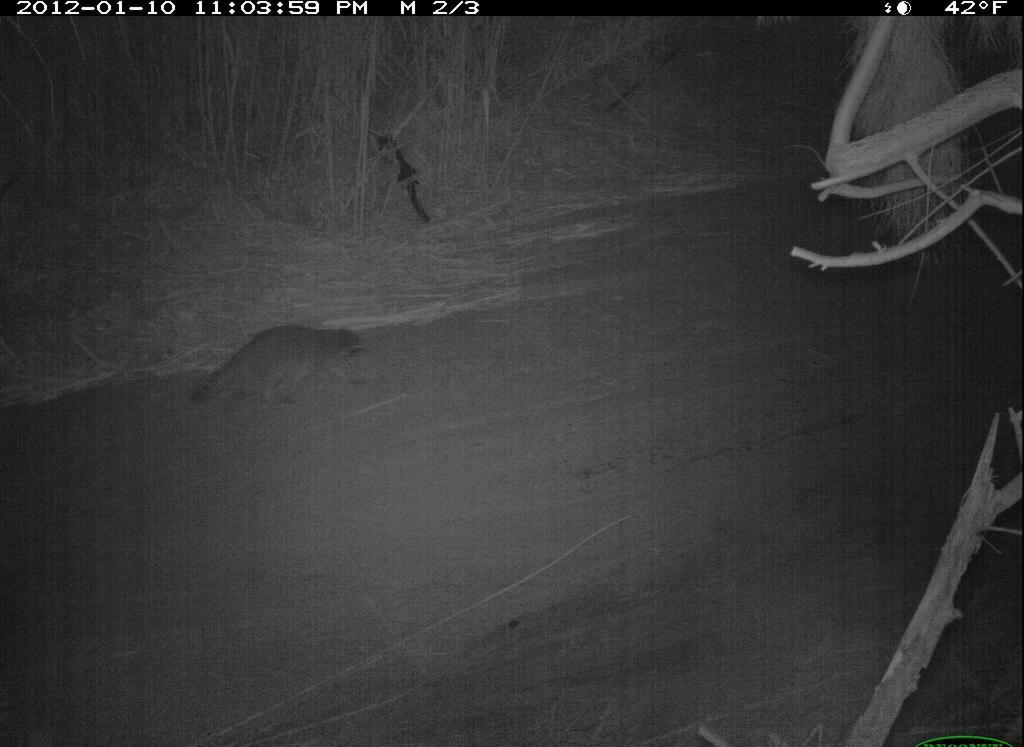raccoon: (181, 314, 381, 419)
